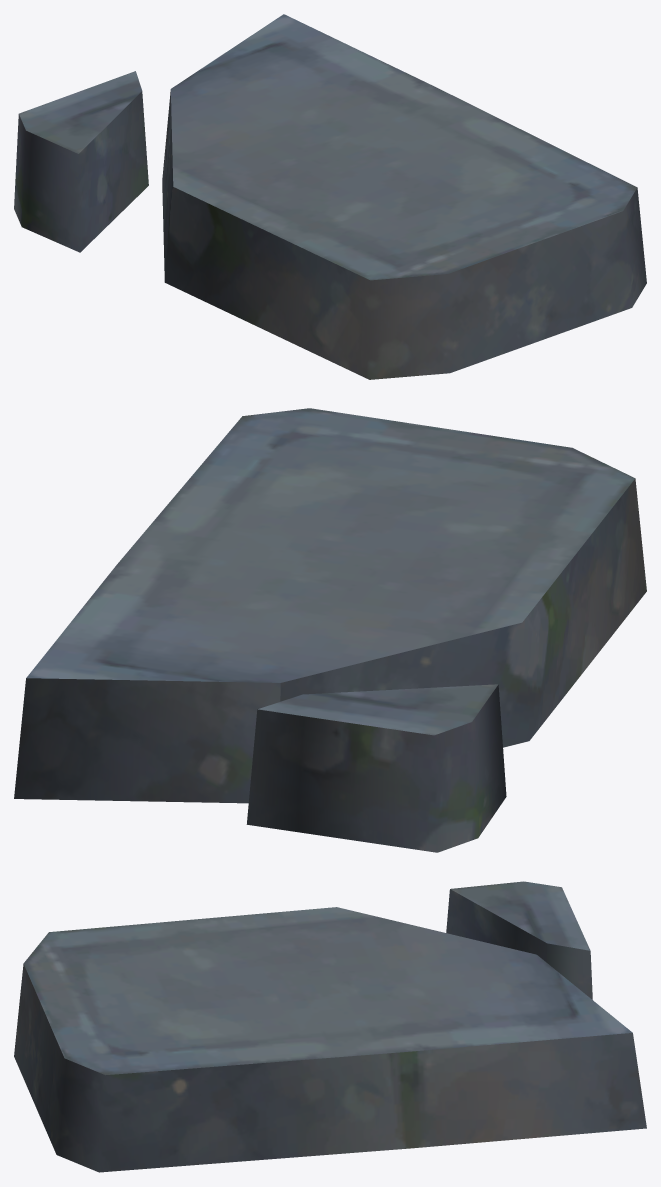
File: Area_MdBuild_WdPlatform12.fbx
3 views of the same model, one above another, from view 1: azimuth 30°, elevation 25°; view 2: azimuth 150°, elevation 25°; view 3: azimuth 270°, elevation 25° (orthographic). The views are drawn at different scales.
Parts seen in each view (by area): view 1: Area_MdBuild_WdPlatform12_Vo; view 2: Area_MdBuild_WdPlatform12_Vo; view 3: Area_MdBuild_WdPlatform12_Vo.
Part boxes in pixels (box(x1,y1,x2,y2)): Area_MdBuild_WdPlatform12_Vo: box(14, 14, 646, 379); Area_MdBuild_WdPlatform12_Vo: box(14, 408, 646, 852); Area_MdBuild_WdPlatform12_Vo: box(14, 881, 646, 1172).
Bounding box in the file's own units: 1.36 × 0.3 × 1.83.
2 materials, 2 textured.
